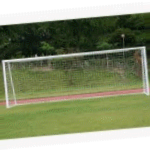goals: (1, 45, 150, 109)
